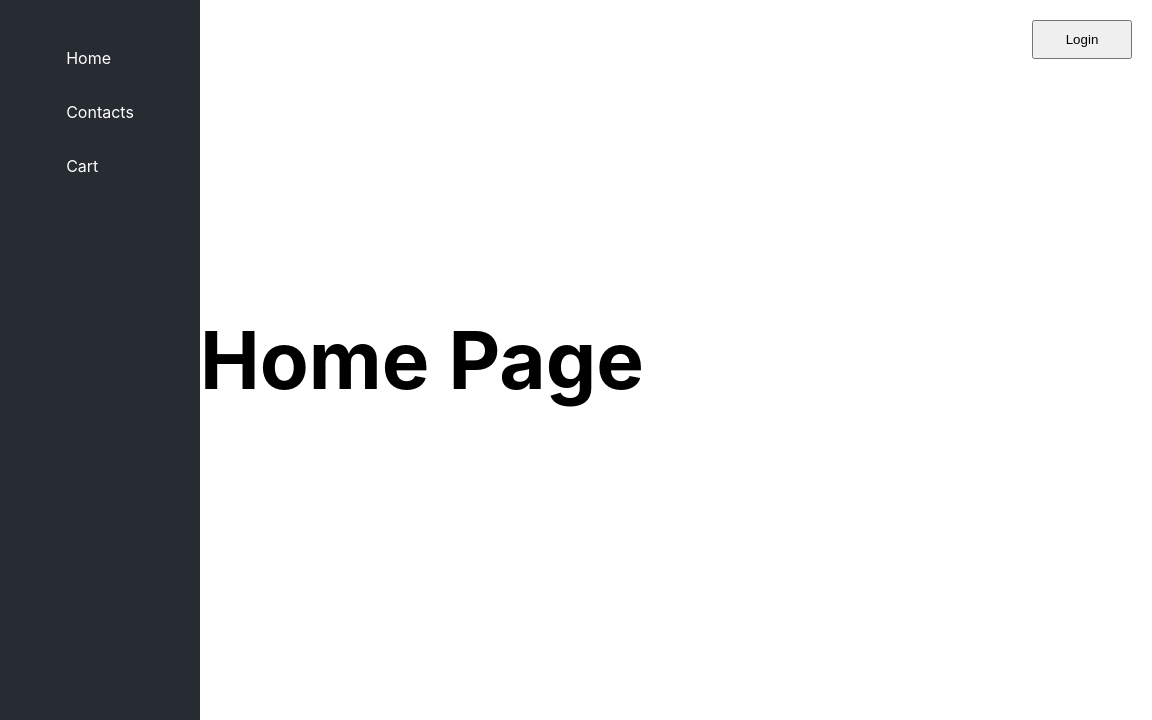
Test: App › should render Cart page if user is login
What coordinates should you click on to do the following:
click the button "Login"
I would click on:
 (1082, 40)
Its box is [1032,20,1132,59].
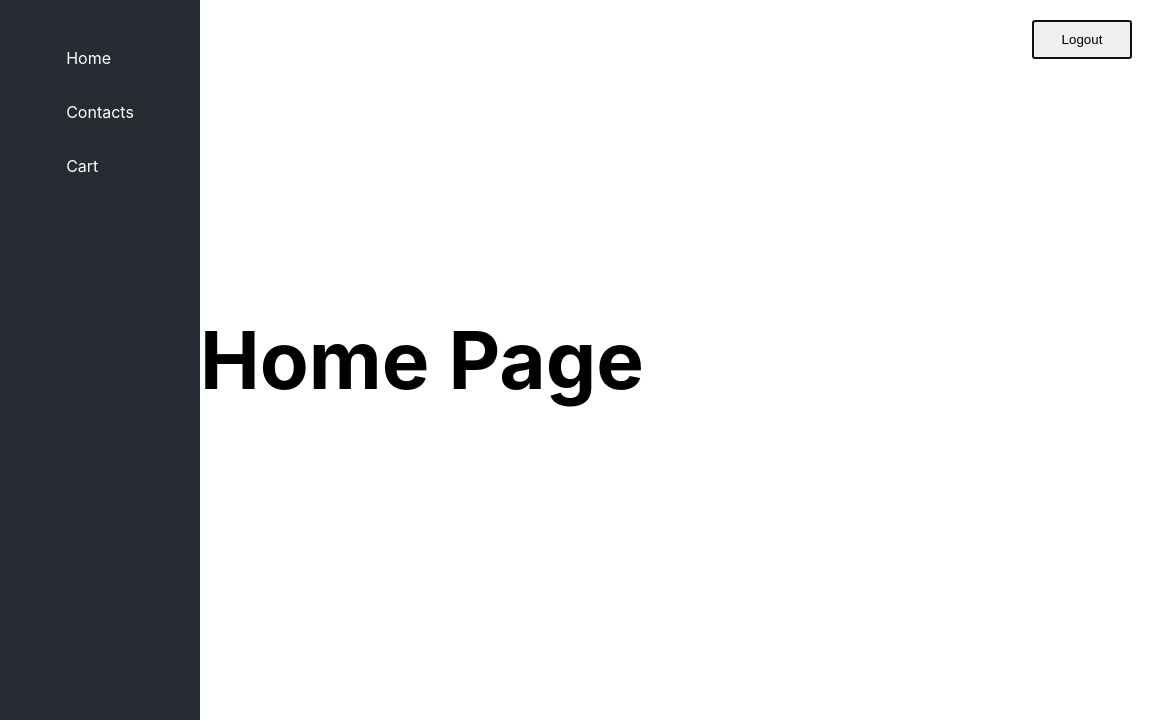
What coordinates should you click on to do the following:
click the link "Cart"
I would click on:
 (82, 166)
Its box is [66,156,98,176].
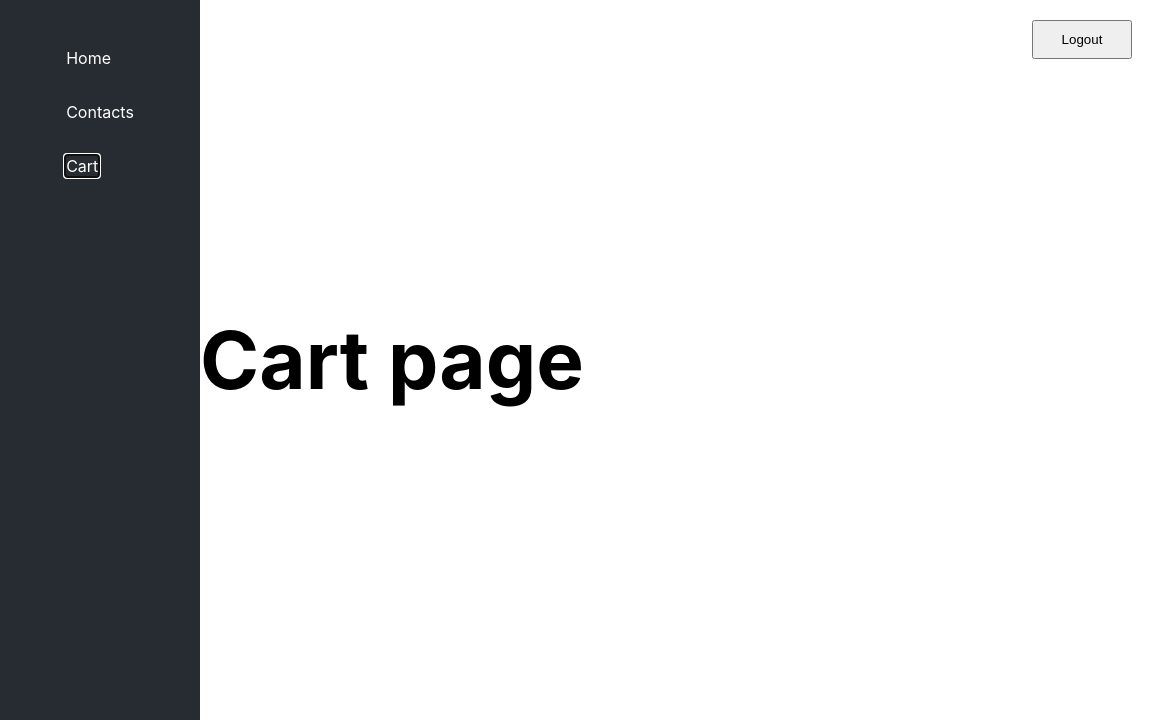
Now the heading "Cart page" is shown, box [200,311,584,408]
